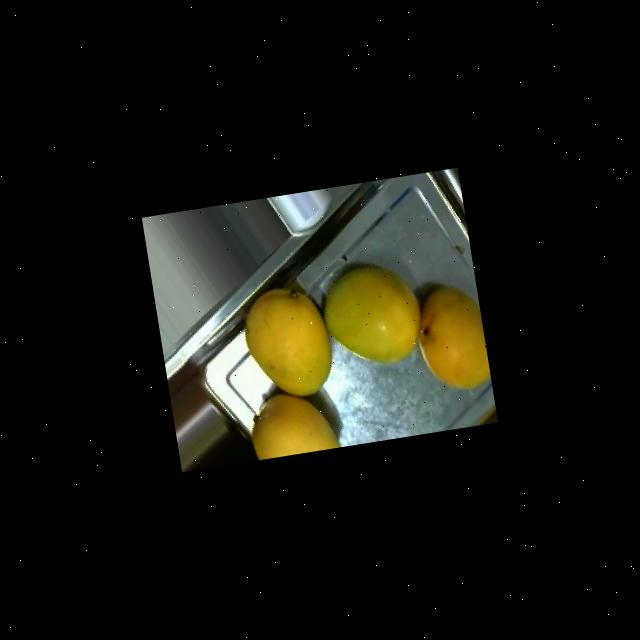Mango: (317, 258, 428, 374), (238, 280, 339, 405), (410, 281, 492, 397), (246, 386, 342, 461)
